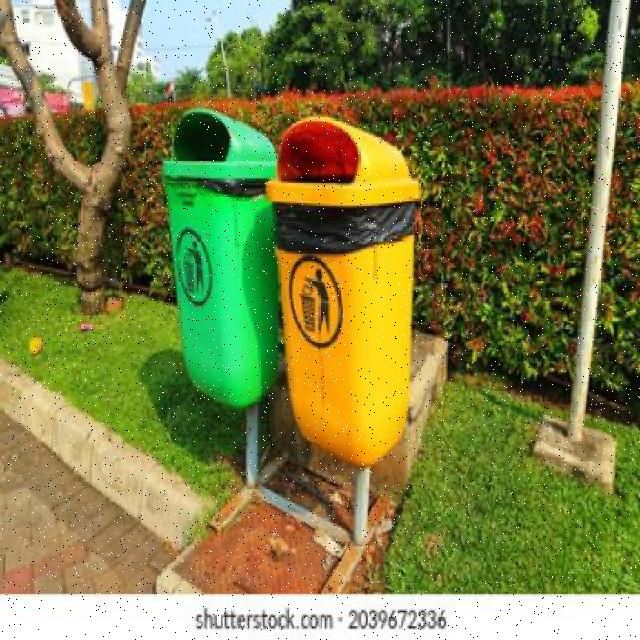garbage container: (269, 111, 434, 482), (150, 94, 285, 418)
